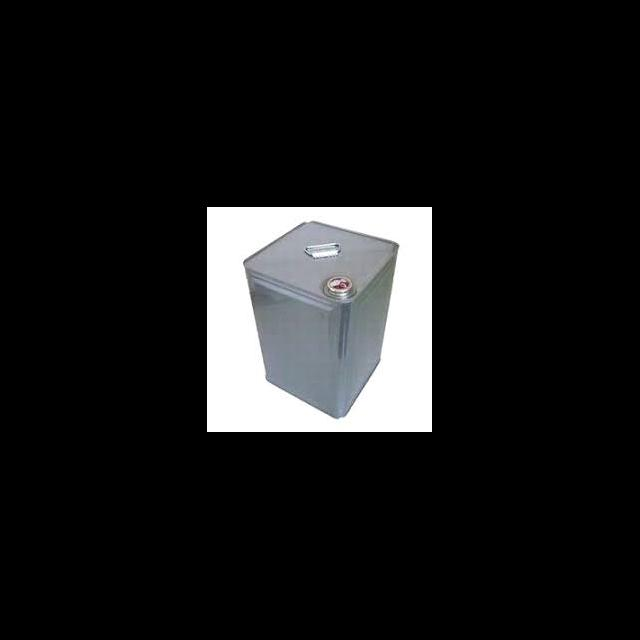metal: (242, 220, 398, 418)
